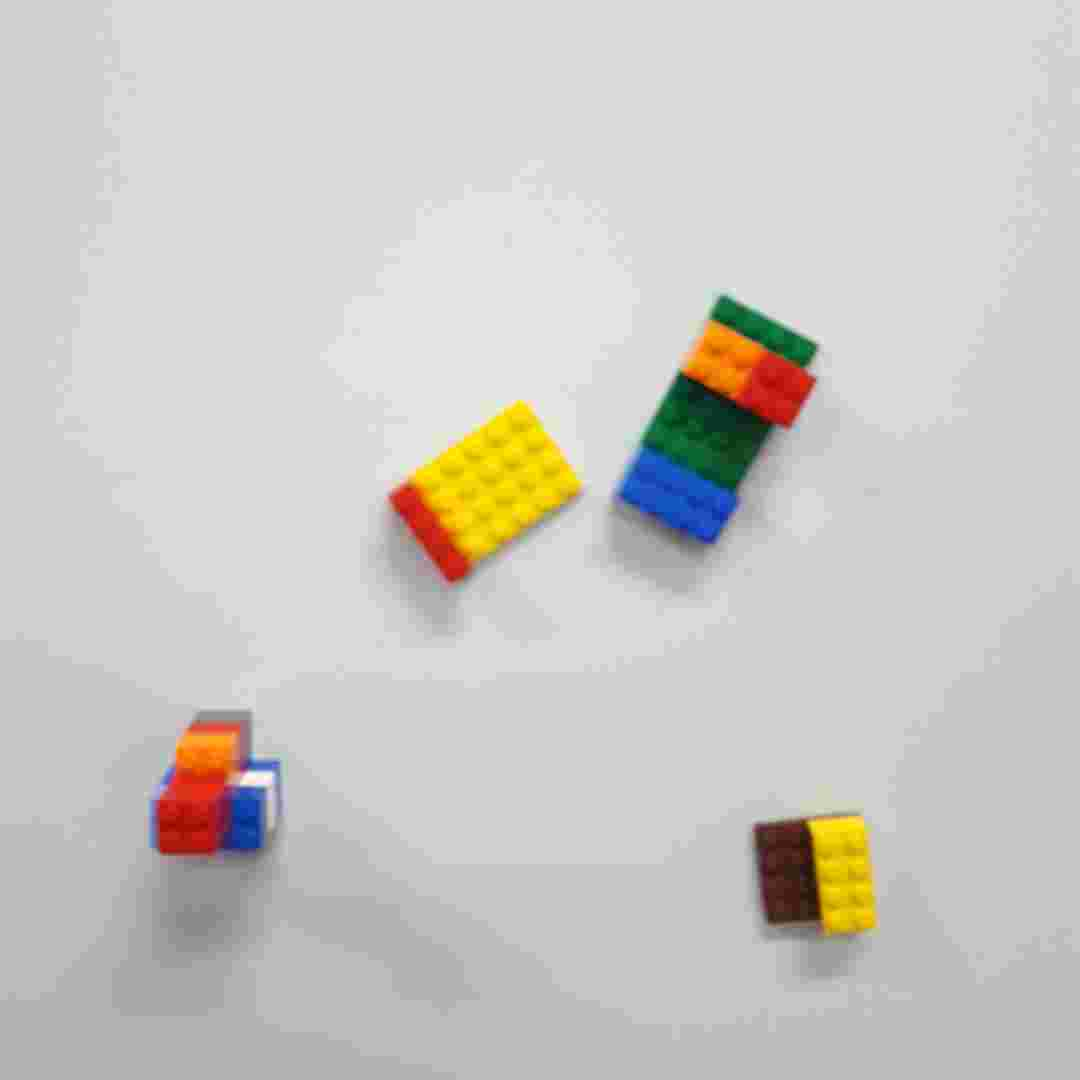LEGO: (619, 293, 824, 545), (390, 393, 590, 590), (142, 704, 294, 859), (750, 810, 881, 942)
